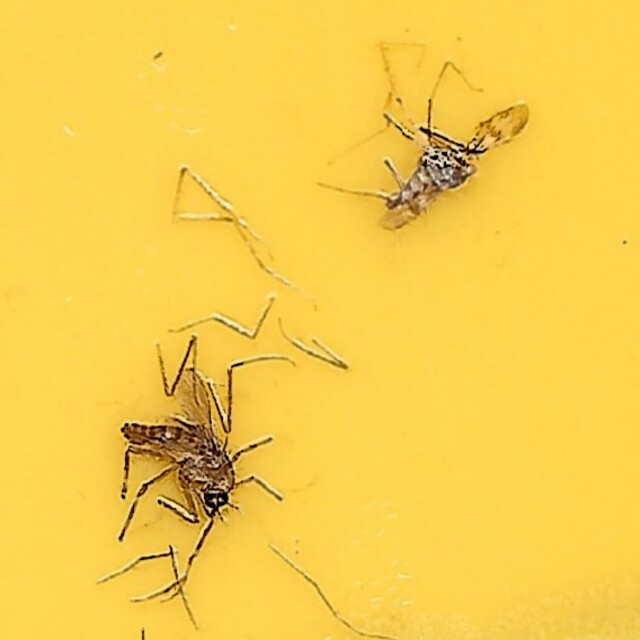Nematocera: (113, 365, 246, 524), (370, 116, 527, 234)
